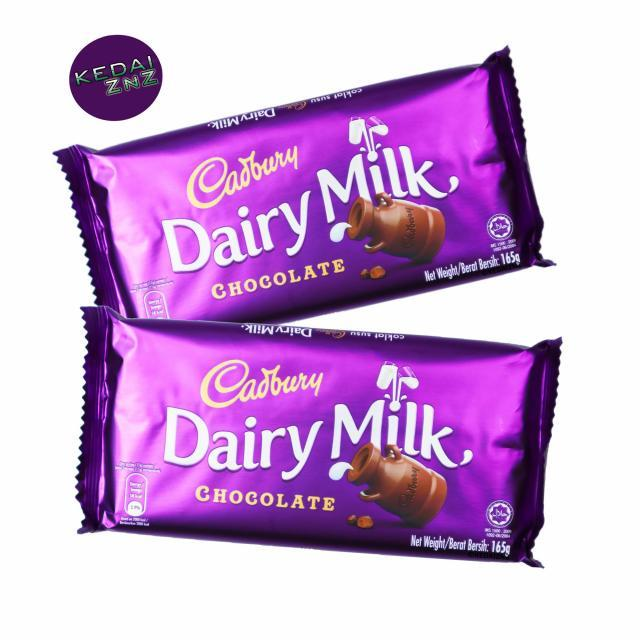cadbury_chocolate: (95, 312, 543, 578), (120, 73, 525, 327)
